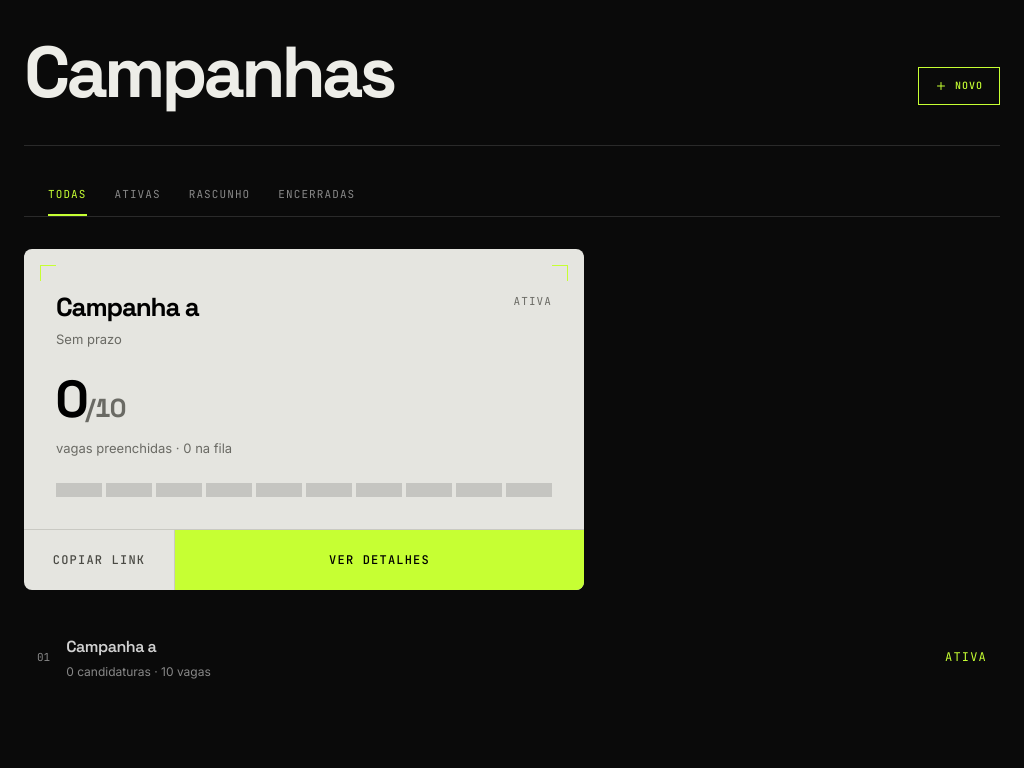
Scenario: CampaignsPage — filtro por status › explica quando o filtro não tem nenhuma campanha
Click the button "Encerradas".
click(317, 201)  # box x1=278 y1=186 x2=355 y2=216
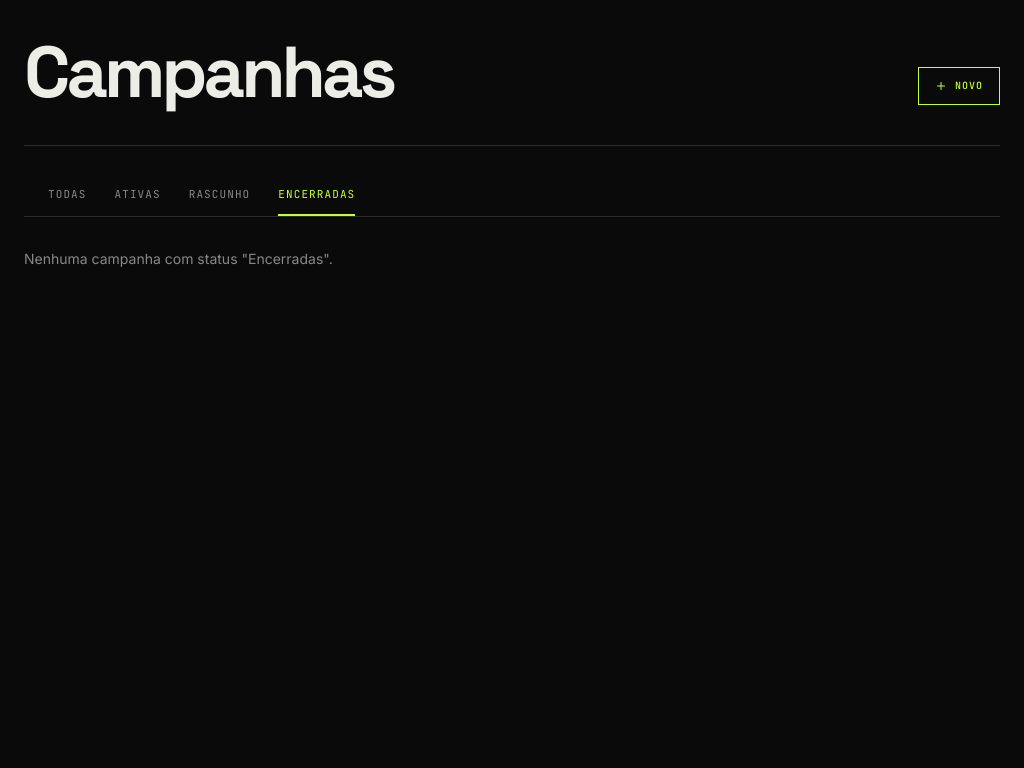
Now the text "Nenhuma campanha com status \"Encerradas\"." is shown, box x1=24 y1=250 x2=333 y2=267
